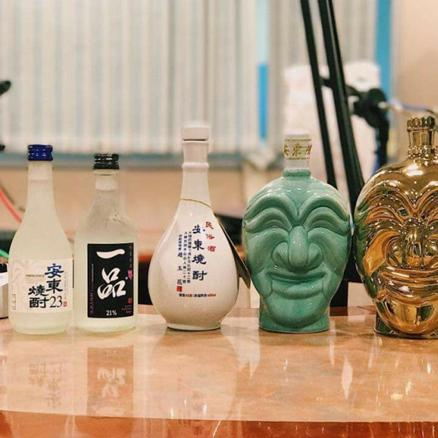soju: (6, 142, 78, 329), (74, 153, 140, 331)
